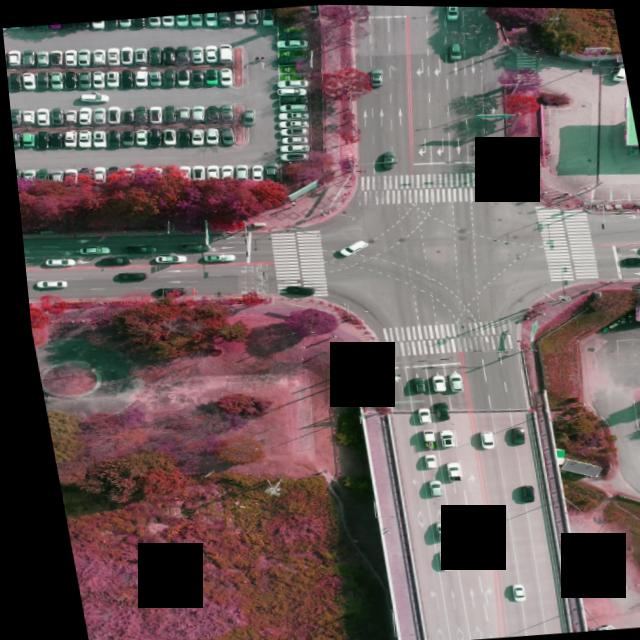car: (75, 89, 108, 104), (216, 42, 234, 61)
small_truck: (409, 426, 429, 448)
